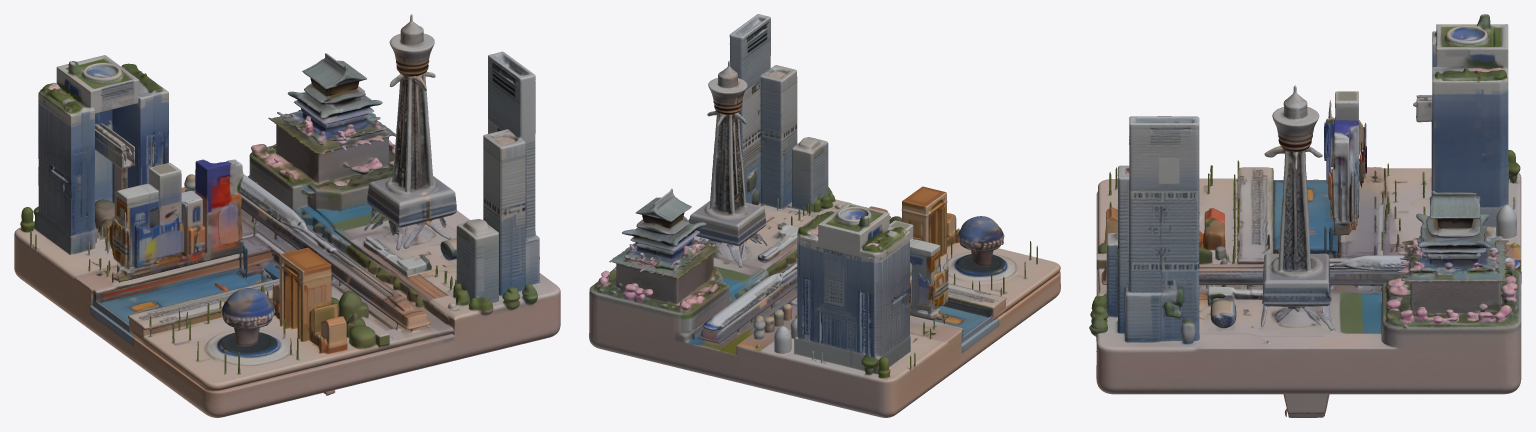
Rendered from Osaka_Japan .glb.
3 views of the same model, side by side, from view 1: azimuth 30°, elevation 25°; view 2: azimuth 150°, elevation 25°; view 3: azimuth 270°, elevation 25° (orthographic). The views are drawn at different scales.
Visible parts, largest first — view 1: tripo_node_7f2b676b-2f79-4a06-843f-5297d56ac87e; view 2: tripo_node_7f2b676b-2f79-4a06-843f-5297d56ac87e; view 3: tripo_node_7f2b676b-2f79-4a06-843f-5297d56ac87e.
Part boxes in pixels (x1,y1,x2,y2): tripo_node_7f2b676b-2f79-4a06-843f-5297d56ac87e: [14, 14, 560, 417]; tripo_node_7f2b676b-2f79-4a06-843f-5297d56ac87e: [589, 14, 1060, 417]; tripo_node_7f2b676b-2f79-4a06-843f-5297d56ac87e: [1089, 14, 1521, 417].
Bounding box in the file's own units: 0.9977 × 0.9542 × 1.
Materials: 1 (1 with a texture image).
